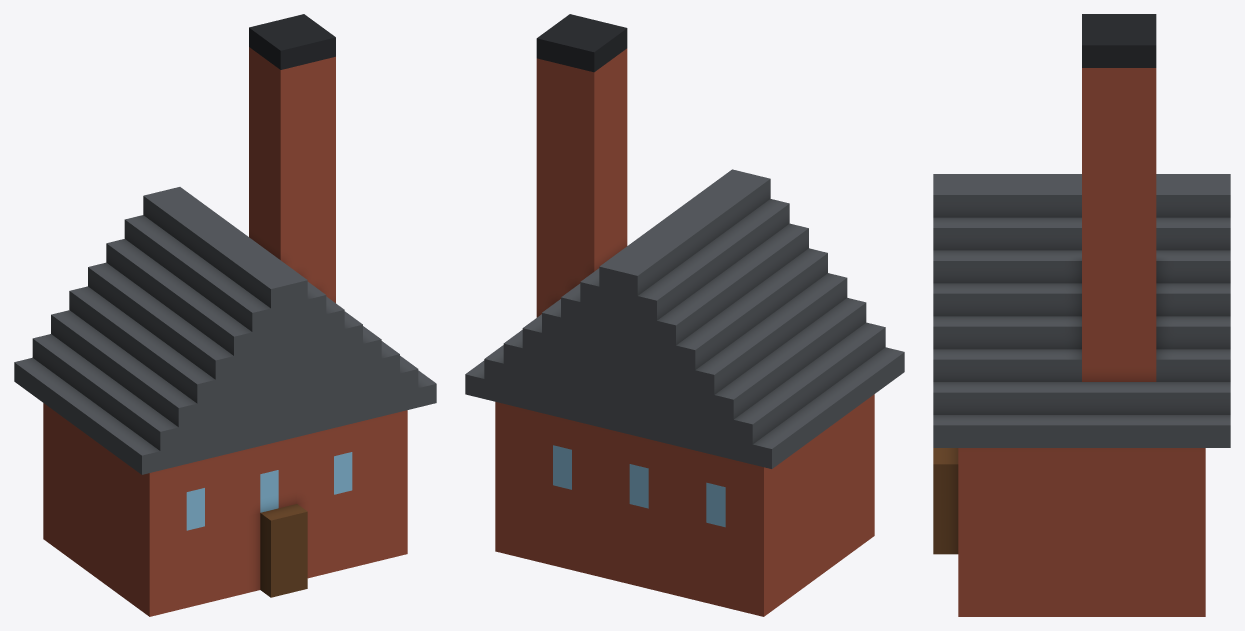
The model's file is c_factory.glb.
3 views of the same model, side by side, from view 1: azimuth 30°, elevation 25°; view 2: azimuth 150°, elevation 25°; view 3: azimuth 270°, elevation 25° (orthographic). The views are drawn at different scales.
Parts seen in each view (by area): view 1: c_factory_body; view 2: c_factory_body; view 3: c_factory_body.
Part boxes in pixels (x1,y1,x2,y2): c_factory_body: (14, 14, 436, 616); c_factory_body: (465, 14, 904, 616); c_factory_body: (933, 14, 1230, 616).
Size of the model in its own units: 1 by 1.56 by 0.75.
Materials: 1 (1 with a texture image).
